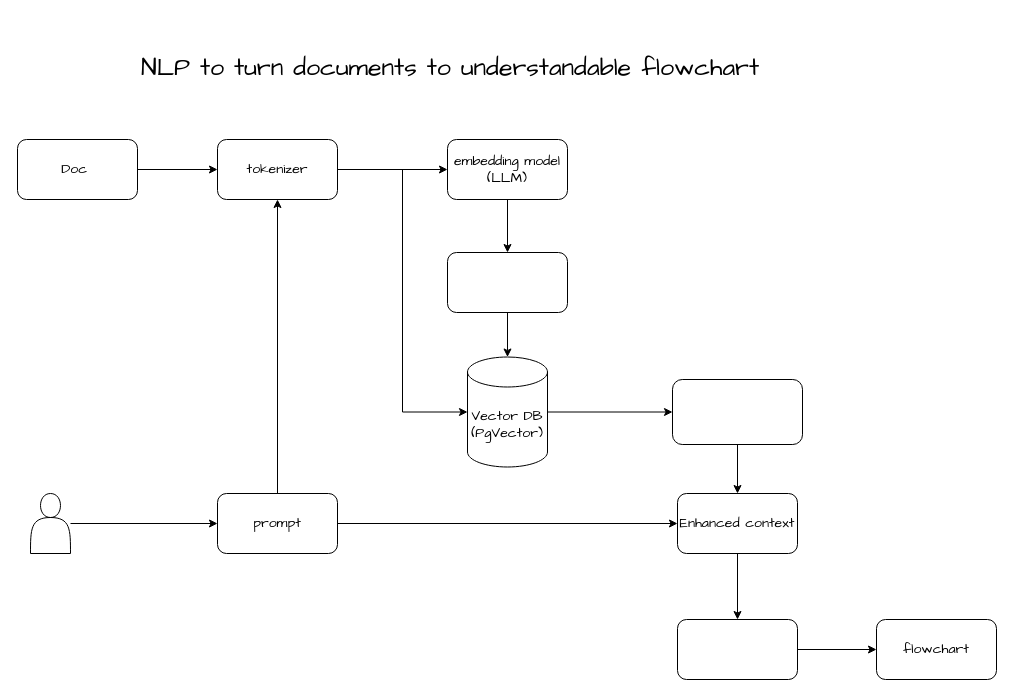
Image size: 1014x697. Some labels were removed from this diagram. Each missing label, with the centre of its shape:
"Embedded vectors" goes at pixel 507 282.
"Local LLM" goes at pixel 737 649.
"Similarity computation" goes at pixel 737 411.
